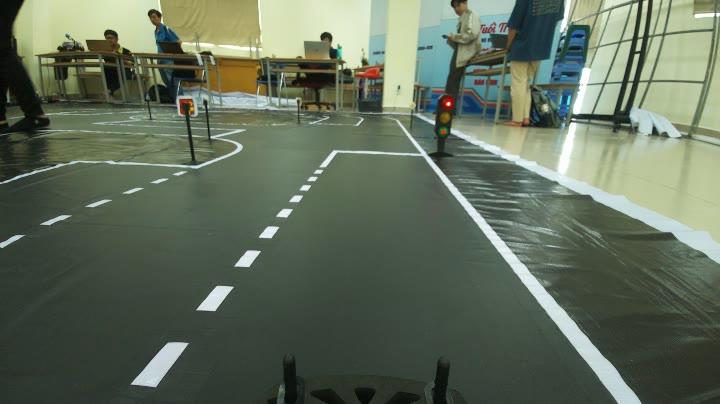trafficlight: (421, 88, 458, 160)
